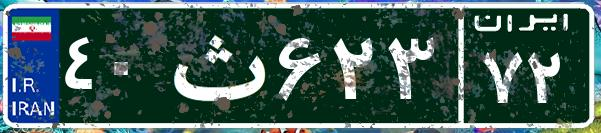0: (110, 28, 158, 105)
2: (330, 28, 385, 110), (525, 38, 570, 115)
3: (385, 28, 445, 110)
4: (57, 26, 110, 107)
6: (273, 28, 330, 110)
7: (475, 38, 525, 113)
ث: (158, 15, 273, 115)
